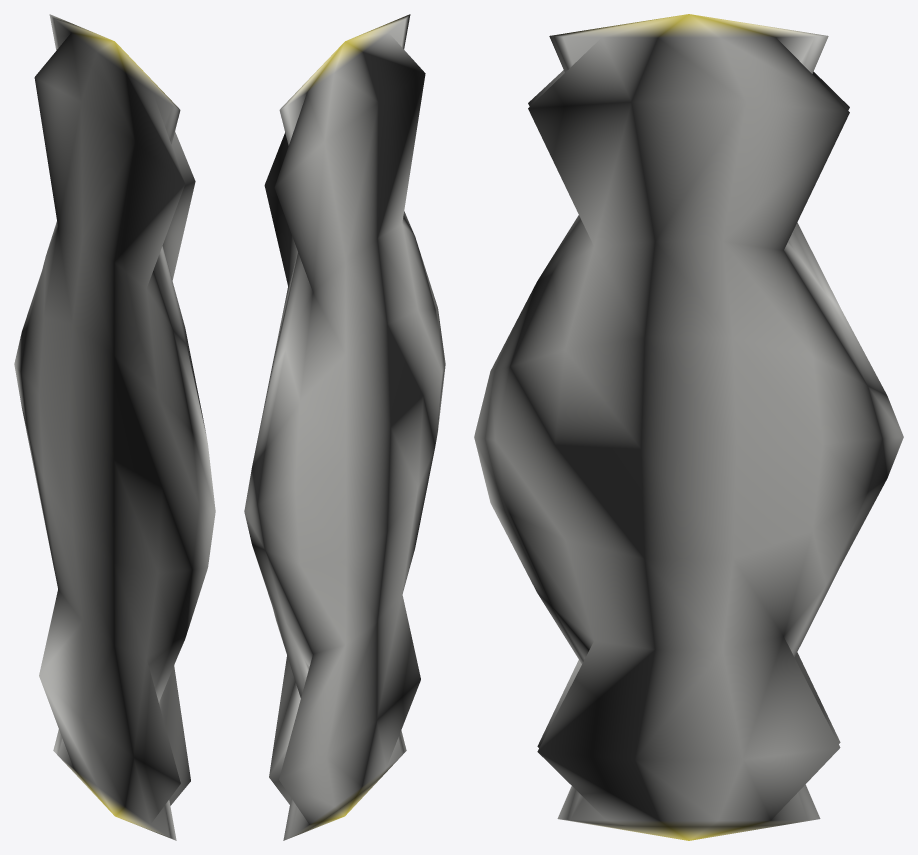
File: angelfish.glb
The picture shows the model from 3 angles, left to right: view 1: azimuth 30°, elevation 25°; view 2: azimuth 150°, elevation 25°; view 3: azimuth 270°, elevation 25°; orthographic projection. The views are drawn at different scales.
Visible parts, largest first — view 1: angelfish; view 2: angelfish; view 3: angelfish.
Part boxes in pixels (left/top/right/bottom): angelfish: left=14, top=14, right=215, bottom=840; angelfish: left=244, top=14, right=445, bottom=840; angelfish: left=474, top=14, right=903, bottom=840.
Size of the model in its own units: 0.0273 by 0.431 by 0.203.
